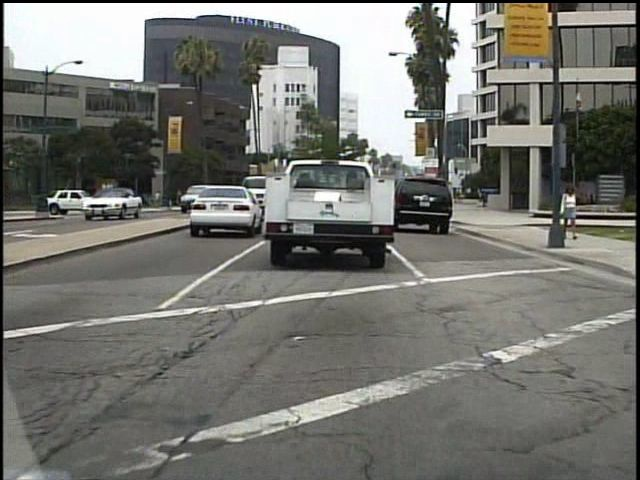person: (560, 178, 581, 246), (113, 181, 128, 215), (112, 189, 126, 220), (155, 188, 164, 212)
